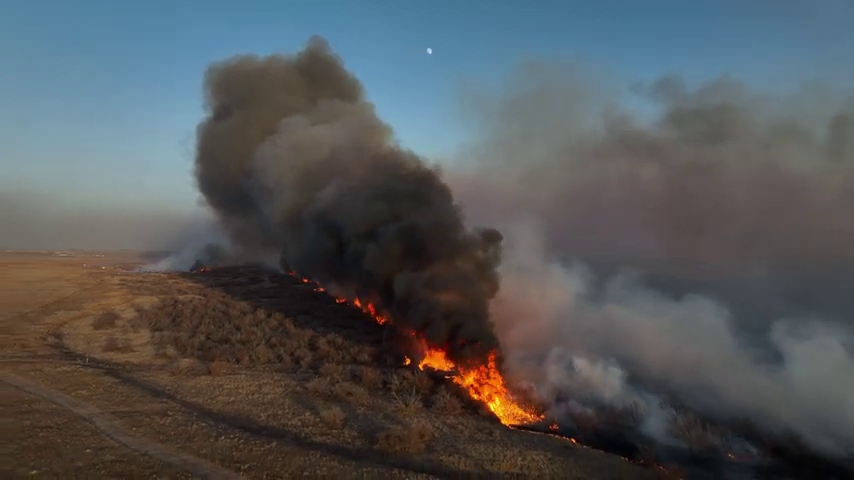forest_fire: (413, 332, 542, 423), (334, 296, 386, 324), (288, 270, 327, 291), (404, 357, 410, 363)
